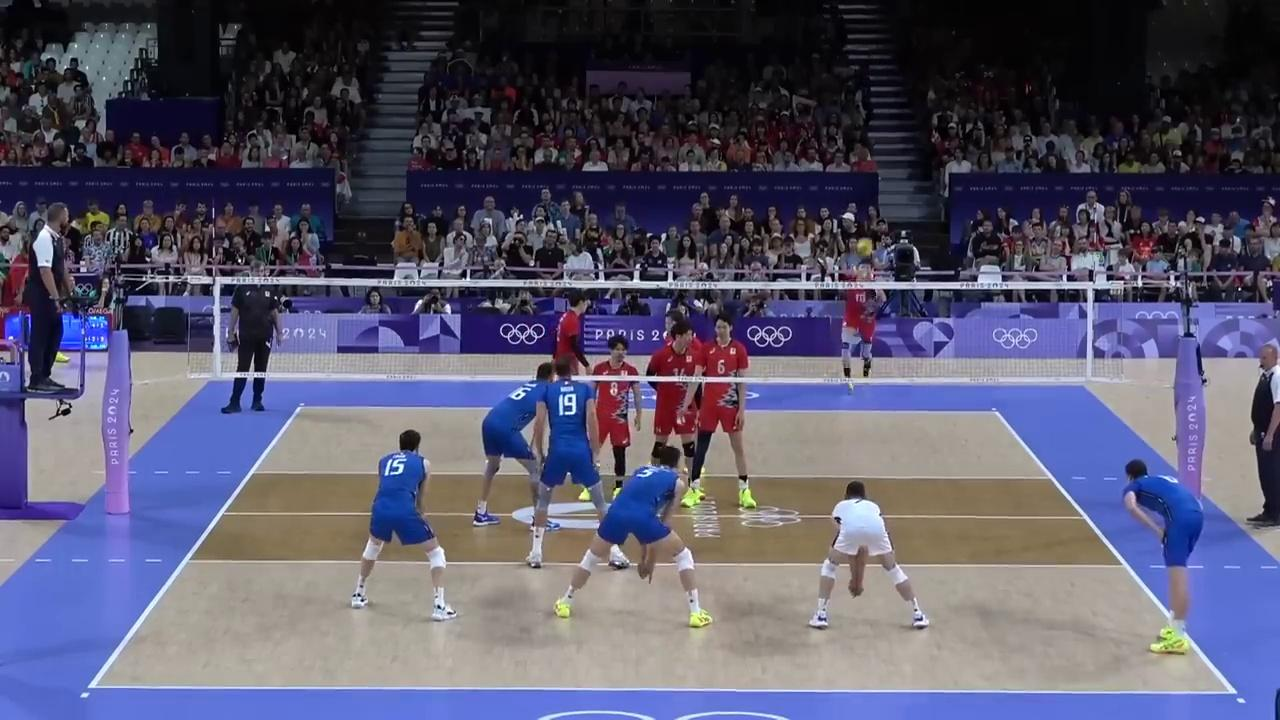ball: (856, 236, 873, 255)
